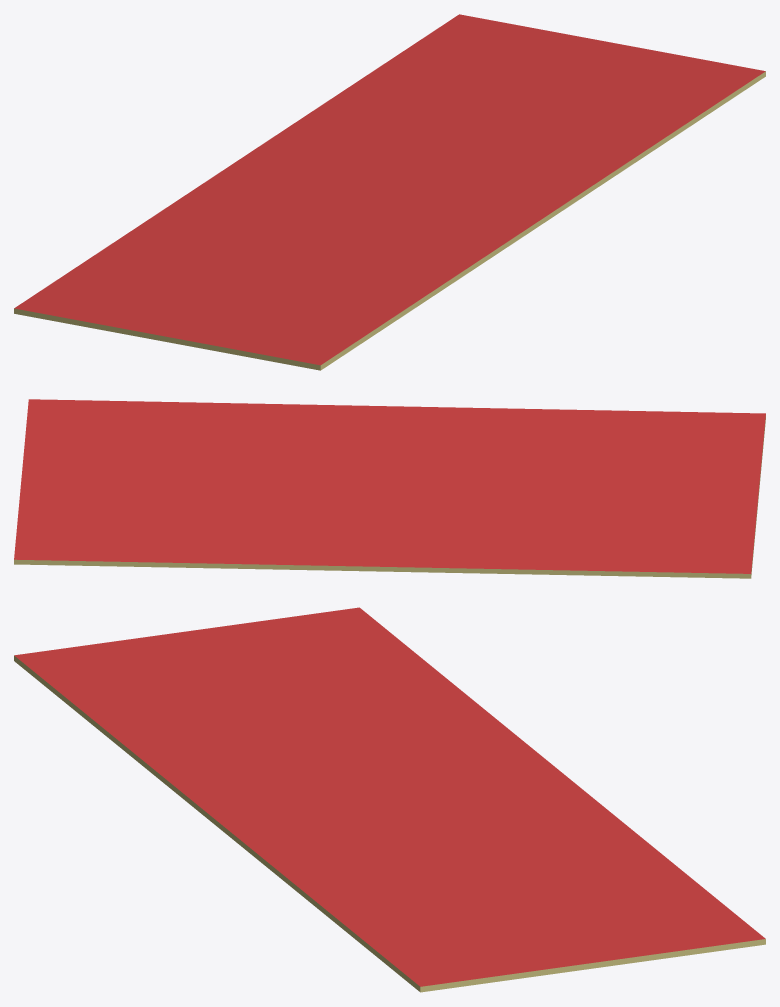
3 views of the same model, one above another, from view 1: azimuth 30°, elevation 25°; view 2: azimuth 150°, elevation 25°; view 3: azimuth 270°, elevation 25° (orthographic). The views are drawn at different scales.
Bounding box in the file's own units: 15.39 × 12.01 × 0.59.
